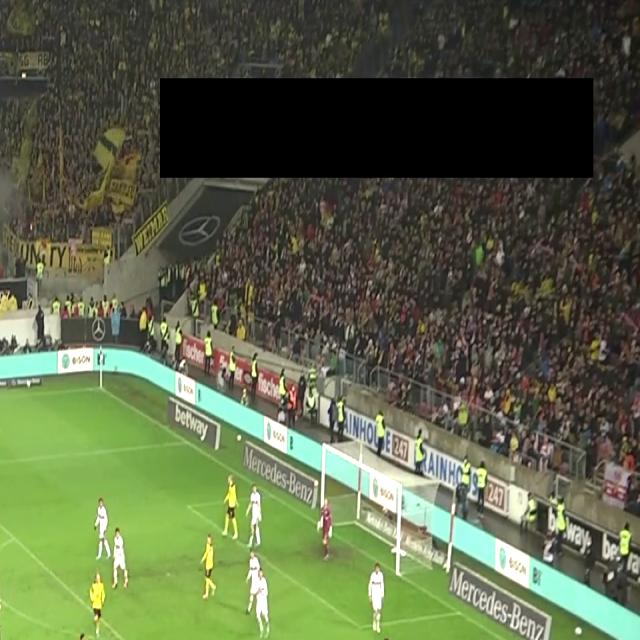goalkeeper: (313, 476, 339, 566)
referee: (0, 577, 13, 640)
soccer-player: (242, 554, 280, 640), (84, 491, 115, 567), (360, 563, 390, 640), (194, 528, 222, 604), (106, 524, 136, 594), (216, 470, 242, 542), (82, 570, 110, 636), (68, 629, 100, 640), (373, 634, 408, 640)
